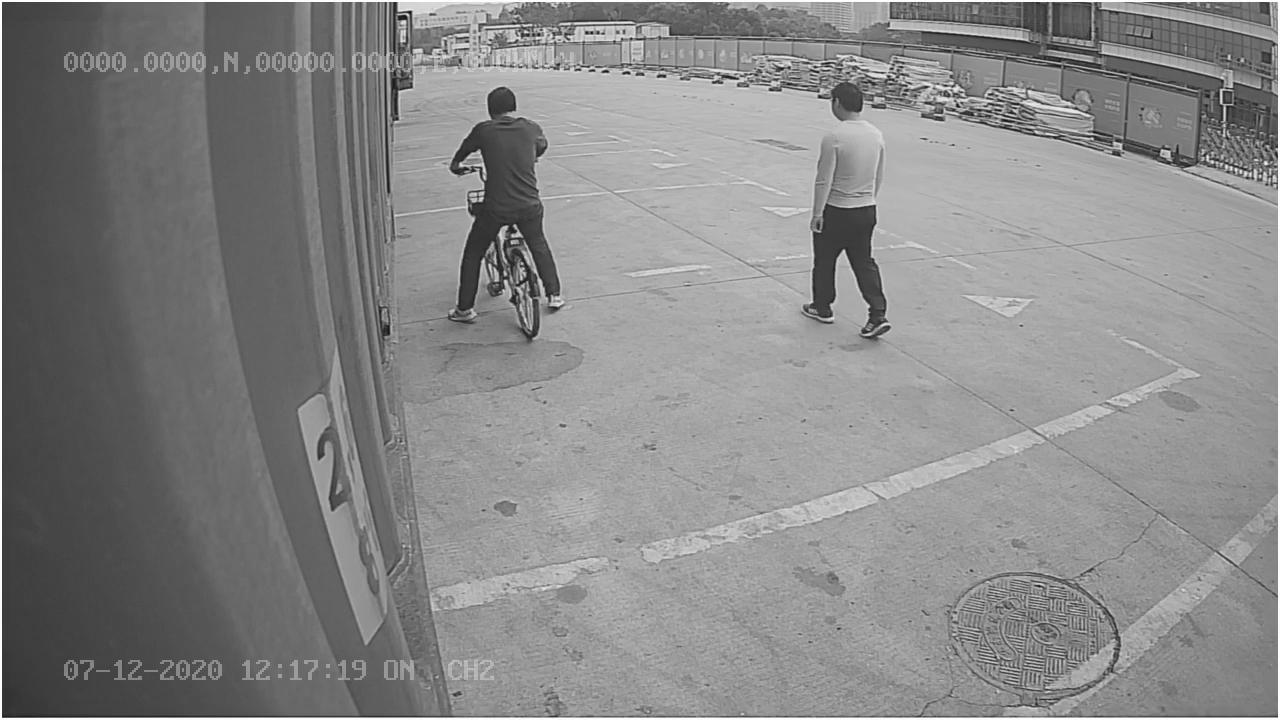person: (798, 79, 895, 342)
